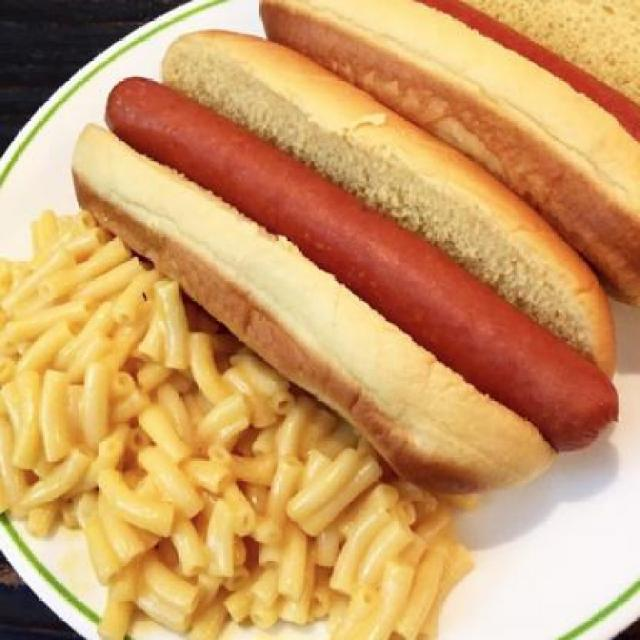macaroni and cheese: (1, 293, 473, 639)
